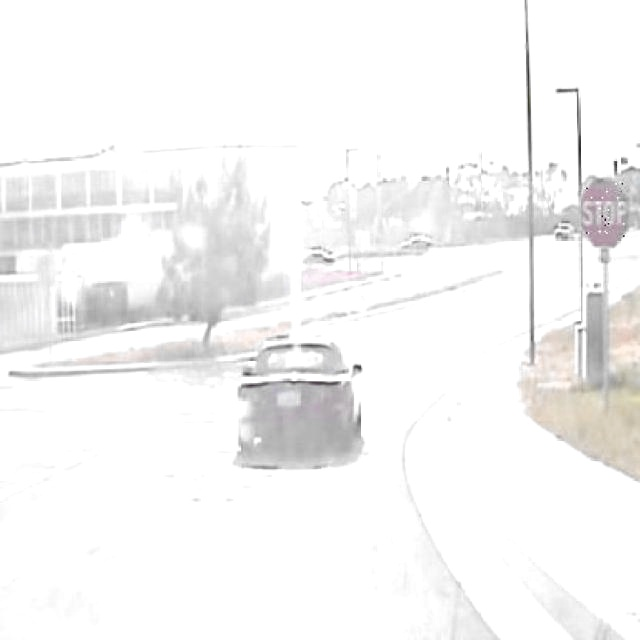stop: (578, 175, 629, 248)
